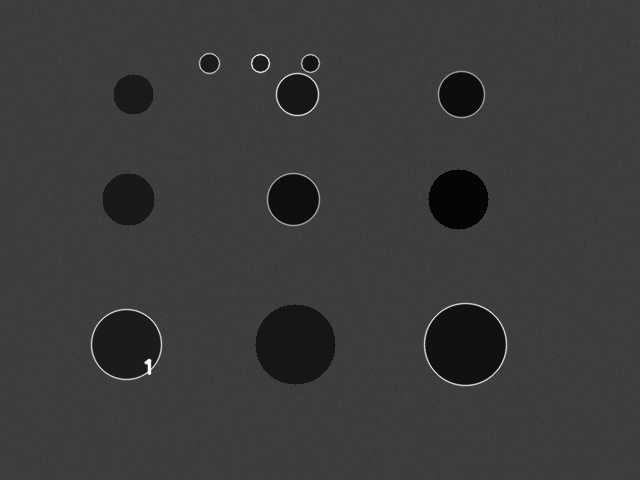hole: (424, 303, 506, 385), (255, 304, 335, 384), (91, 309, 161, 379), (428, 169, 488, 229), (102, 173, 154, 225), (267, 173, 319, 225), (438, 71, 484, 117), (276, 73, 318, 115), (113, 74, 153, 114), (199, 53, 219, 73), (251, 54, 269, 72), (301, 54, 319, 72)
